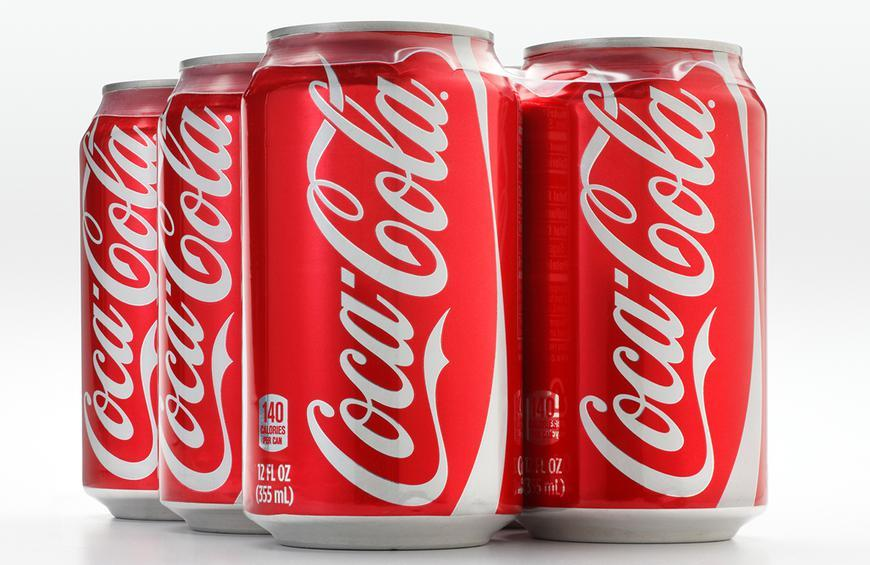Coca-Cola: (256, 38, 516, 530), (529, 32, 751, 540), (164, 47, 253, 521), (76, 47, 164, 520)
